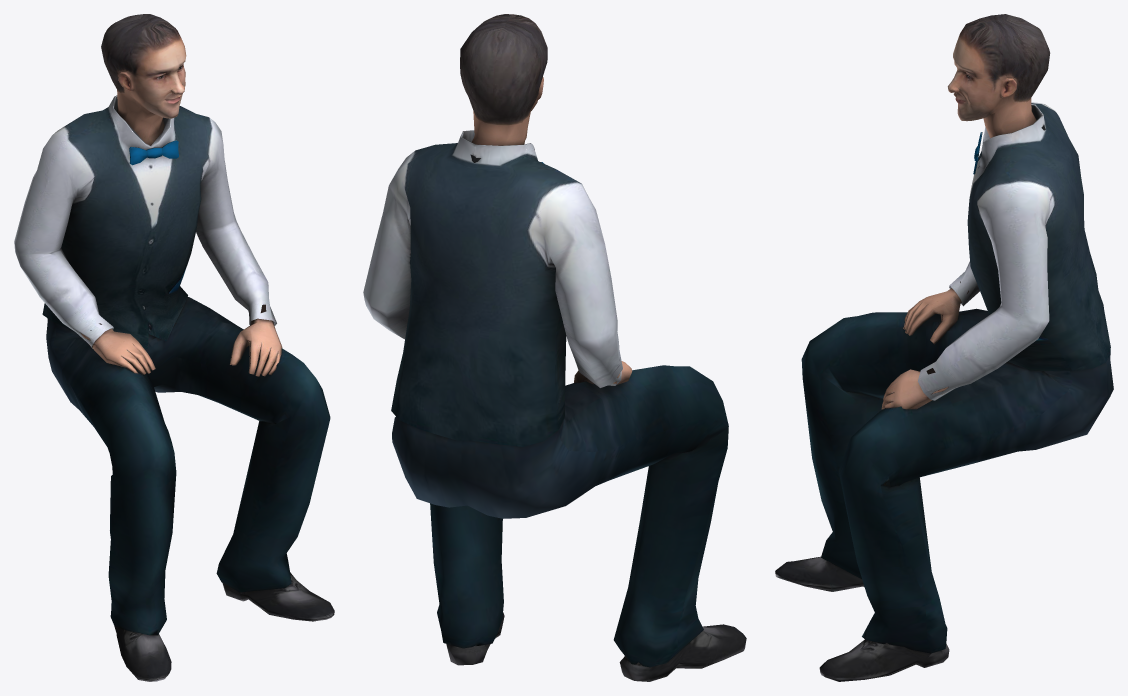
The model's file is SWT01_02_02.fbx.
The picture shows the model from 3 angles, left to right: view 1: azimuth 30°, elevation 25°; view 2: azimuth 150°, elevation 25°; view 3: azimuth 270°, elevation 25°; orthographic projection. The views are drawn at different scales.
Visible parts, largest first — view 1: WAIT01_02_02; view 2: WAIT01_02_02; view 3: WAIT01_02_02.
Boxes of the visible parts, x1,y1,x2,y2 form: WAIT01_02_02: (14, 14, 334, 681); WAIT01_02_02: (363, 14, 746, 681); WAIT01_02_02: (775, 14, 1113, 681).
Size of the model in its own units: 23.82 by 54.93 by 27.83.
